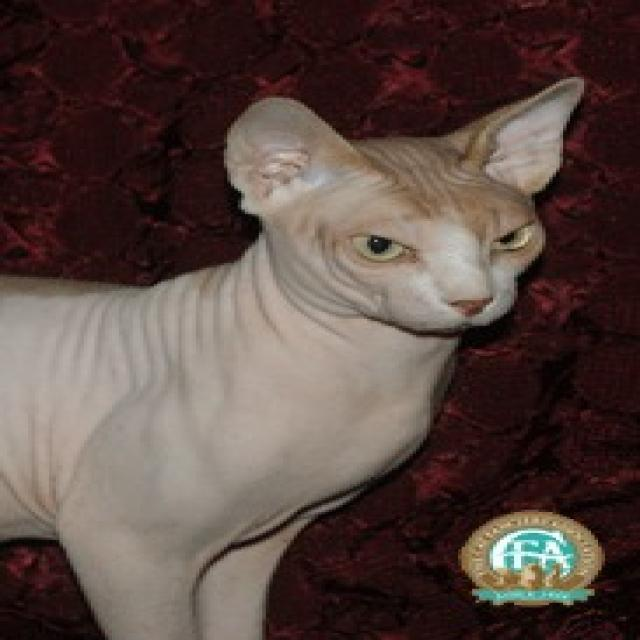Sphynx: (217, 75, 580, 328)
